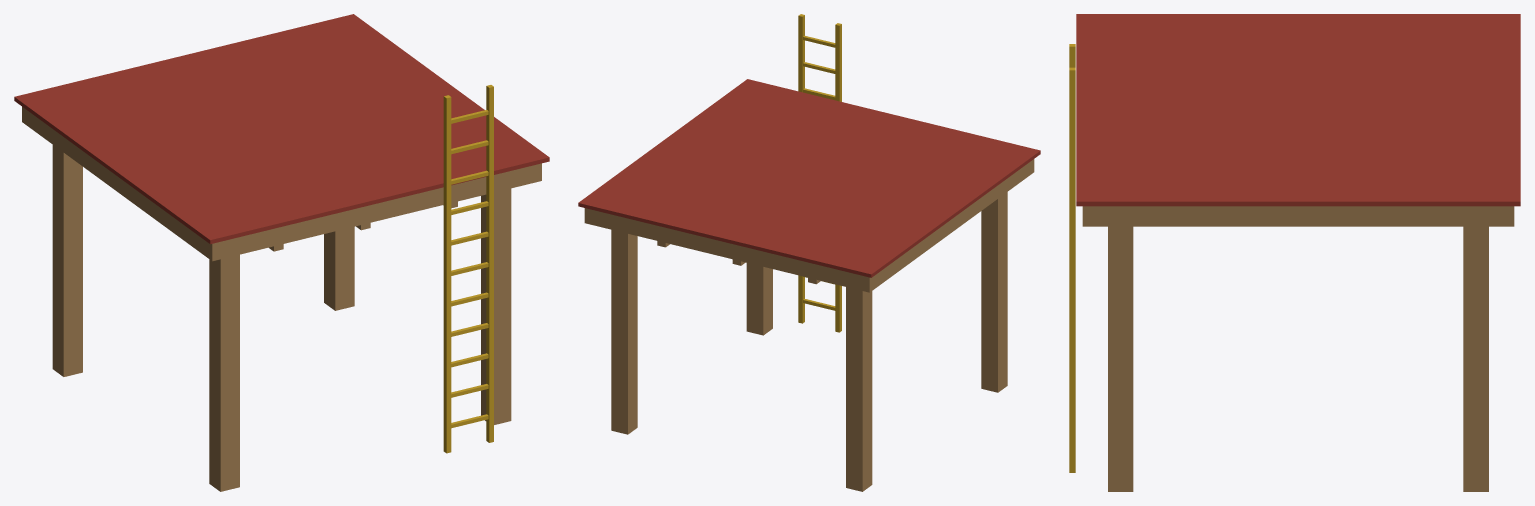
Rendered from gazebo.glb.
3 renders of one model, left to right at view 1: azimuth 30°, elevation 25°; view 2: azimuth 150°, elevation 25°; view 3: azimuth 270°, elevation 25°, orthographic. The views are drawn at different scales.
Visible parts, largest first — view 1: gazebo; view 2: gazebo; view 3: gazebo.
Boxes of the visible parts, x1=… form: gazebo: x1=14, y1=14, x2=549, y2=491; gazebo: x1=578, y1=14, x2=1040, y2=491; gazebo: x1=1069, y1=14, x2=1520, y2=491.
Bounding box in the file's own units: 3.5 × 3.5 × 3.55.
